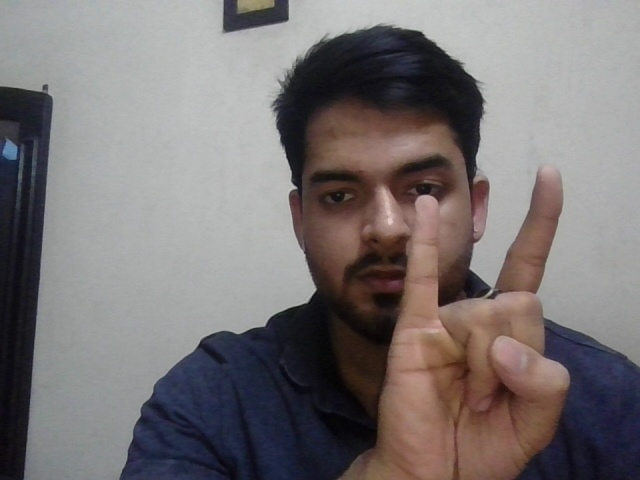iloveyou: (375, 167, 572, 477)
